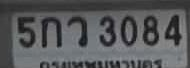0: (120, 15, 136, 45)
3: (98, 15, 115, 46)
4: (164, 14, 180, 45)
5: (17, 16, 34, 47)
8: (142, 15, 158, 44)
A01: (40, 16, 61, 47)
A37: (67, 16, 87, 46)
